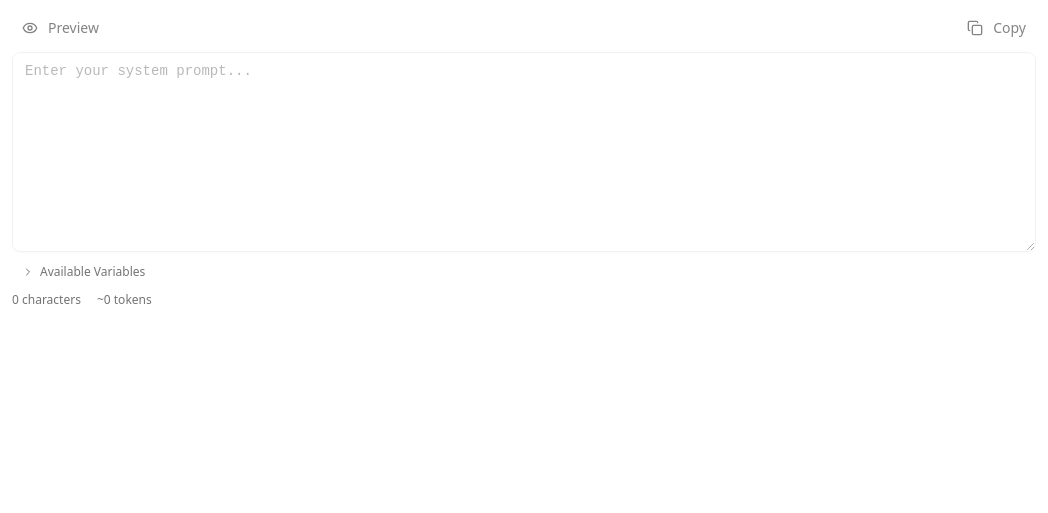
Test: PromptEditor › disables snippet and variable insertion when the editor is disabled
Click the button "Available Variables".
click(84, 272)  # box [12,264,155,280]
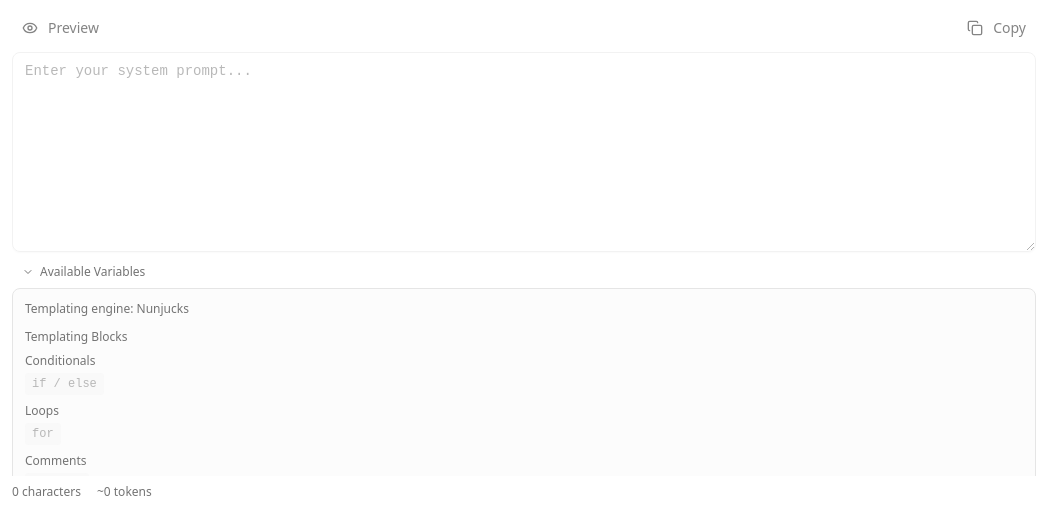
Expected: the button "if / else" is disabled, [25,373,104,395]
